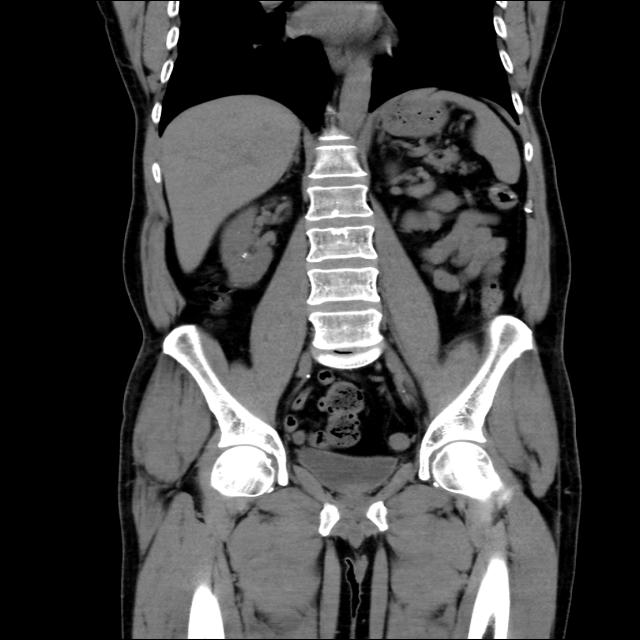kidneystone: (241, 251, 252, 260)
